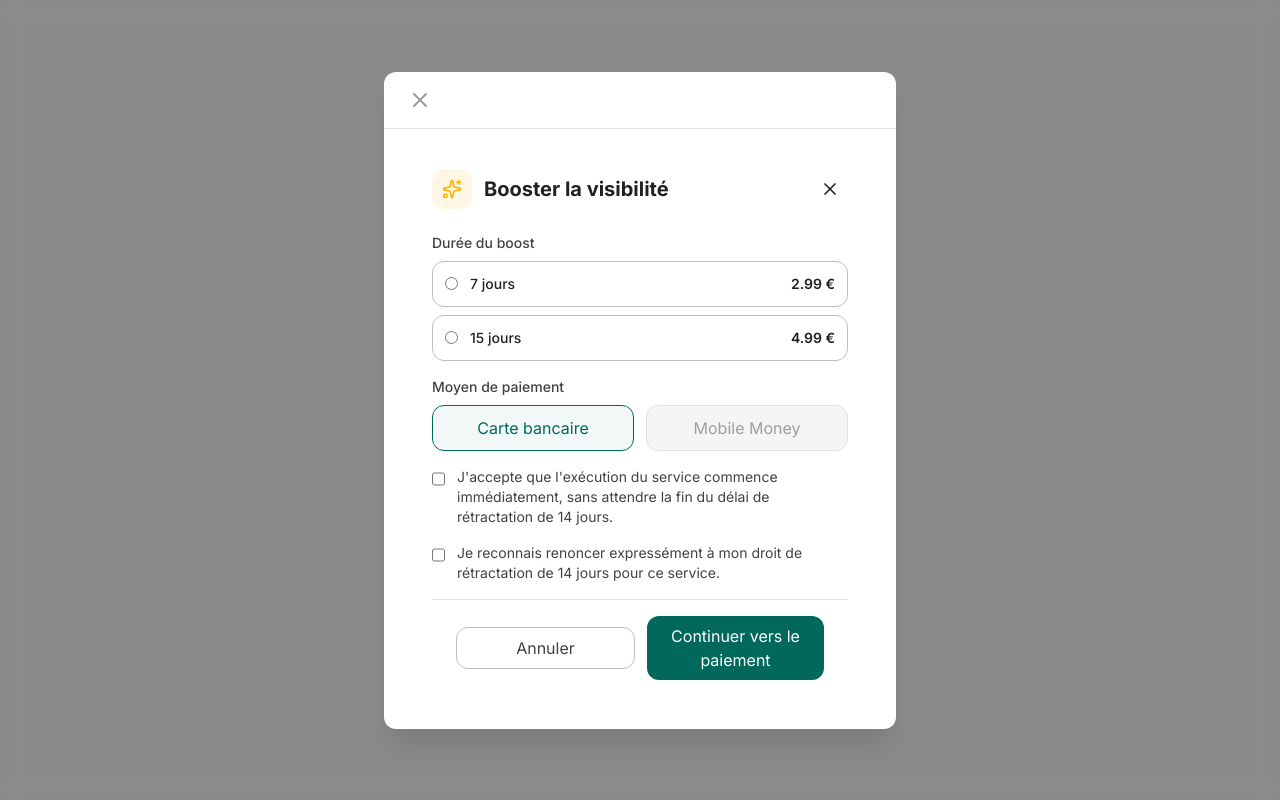
Test: BoostModal - double consentement (art. L.221-28 13° Code conso) › bloque la soumission si une seule des deux cases est cochee
The width and height of the screenshot is (1280, 800).
Click the radio button labelled "7 jours 2.99 €" at point(452, 284), box [445,277,458,290]
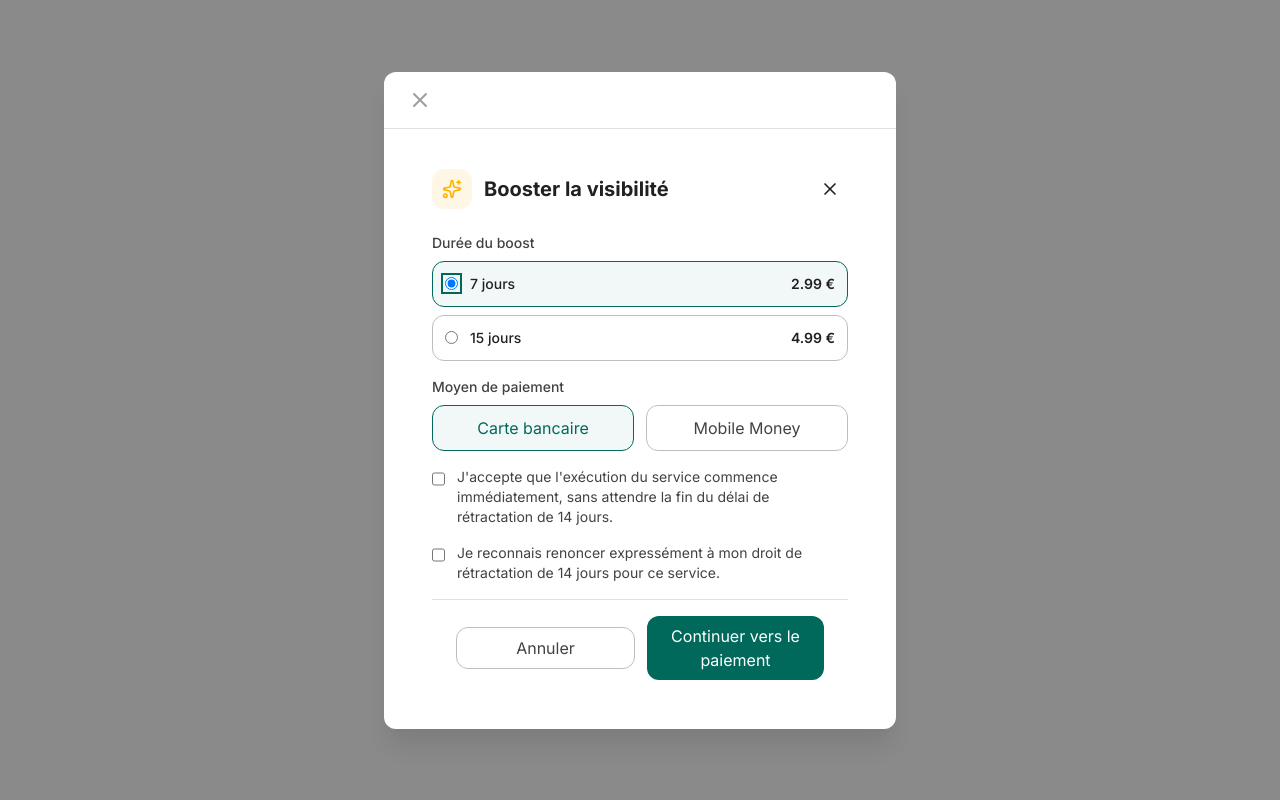
Click the 1st checkbox at point(438, 478), box [432,470,445,486]
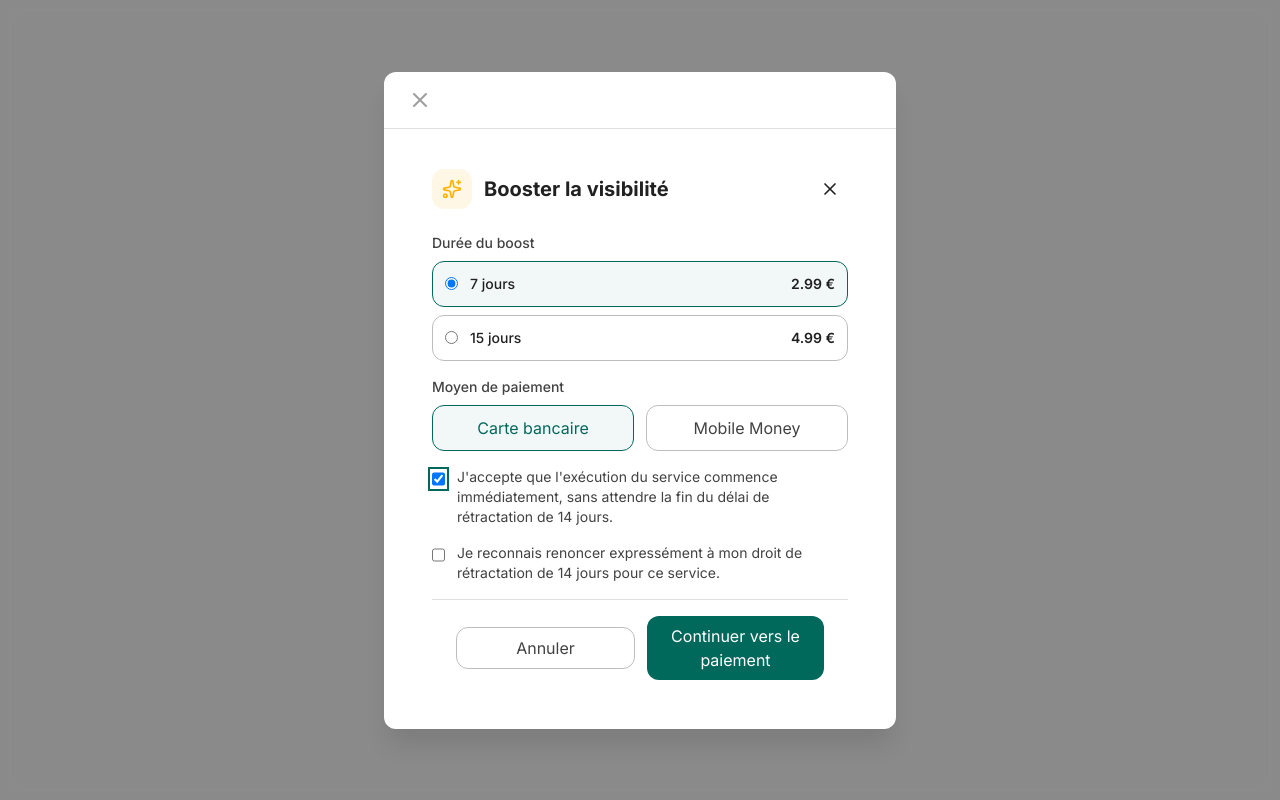
Click the button "Continuer vers le paiement" at point(736, 648), box [647,616,824,680]
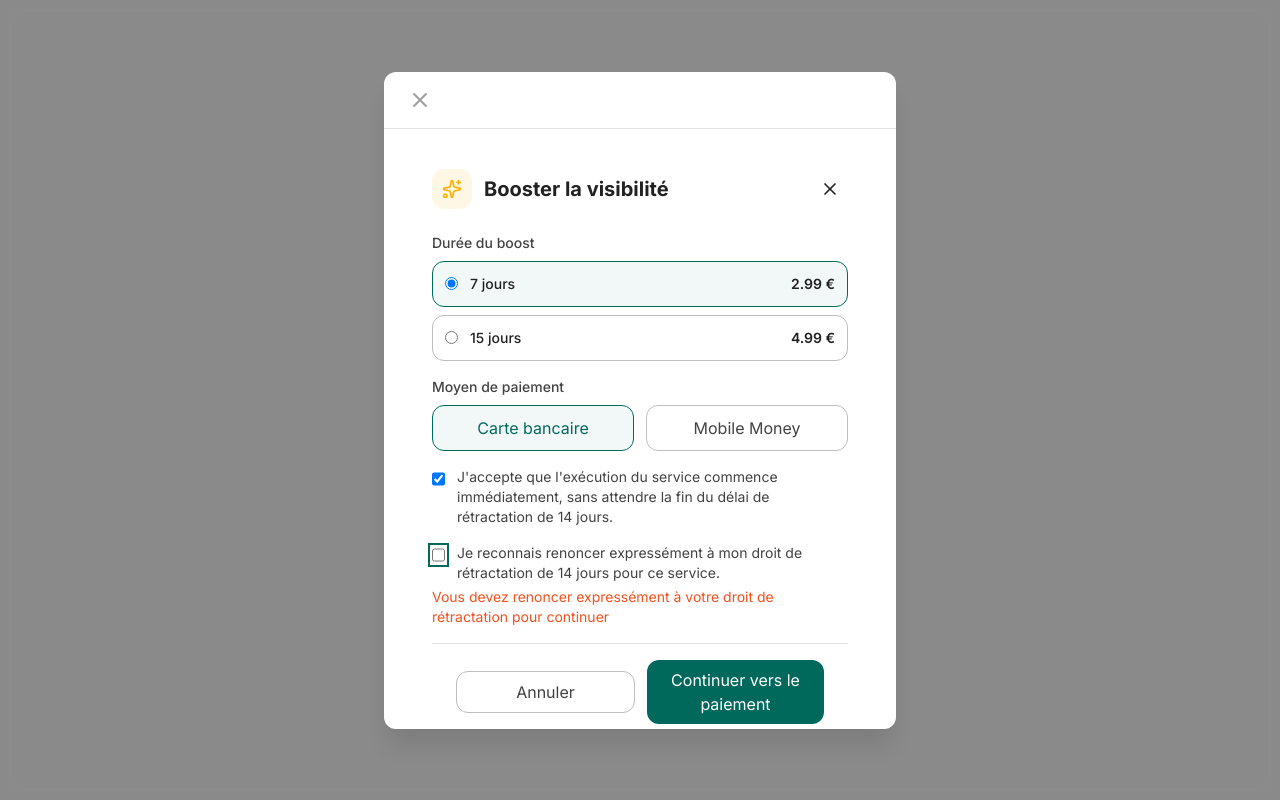
Check: the text "Vous devez renoncer expressément" is shown, box [432,588,774,624]
